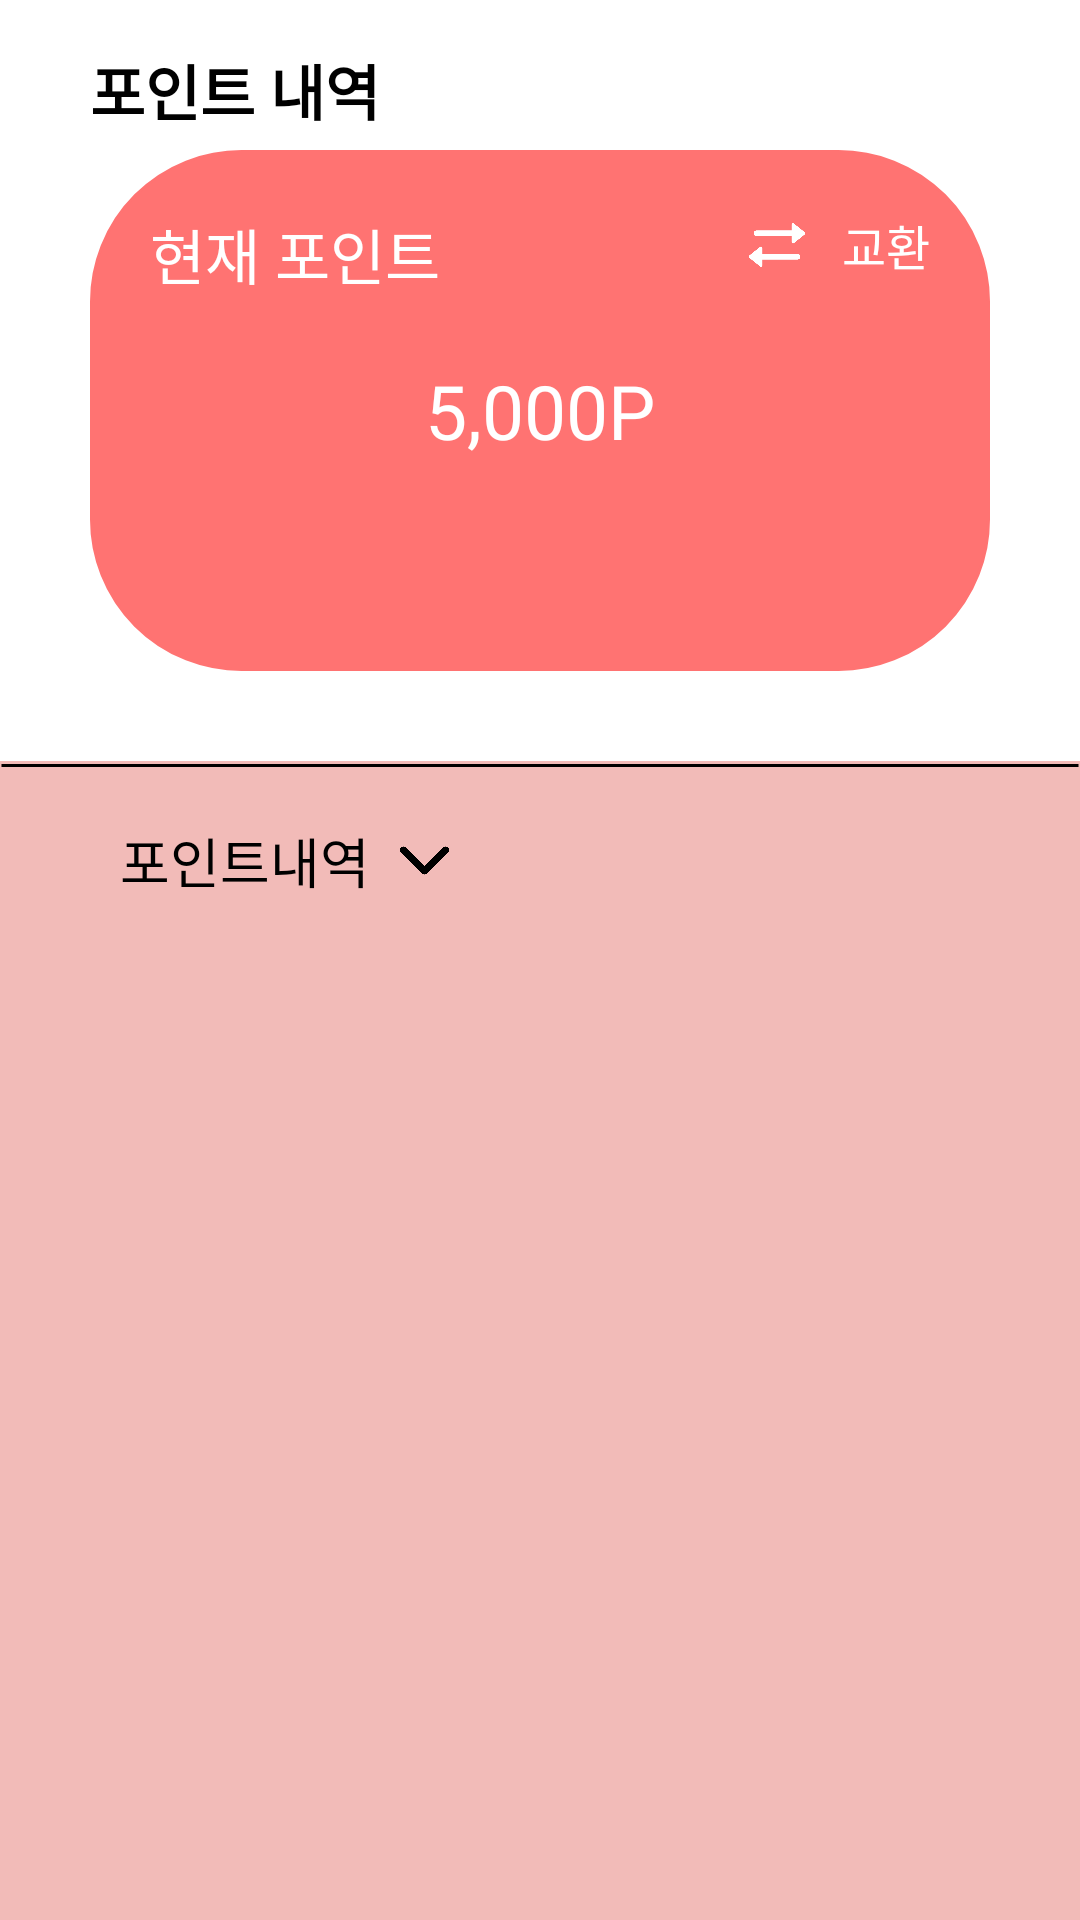

Named icons in this screenshot (1080 × 1920) and their centers, (x=x, y=y):
trade: (x=777, y=245)
under arrow: (x=424, y=860)
